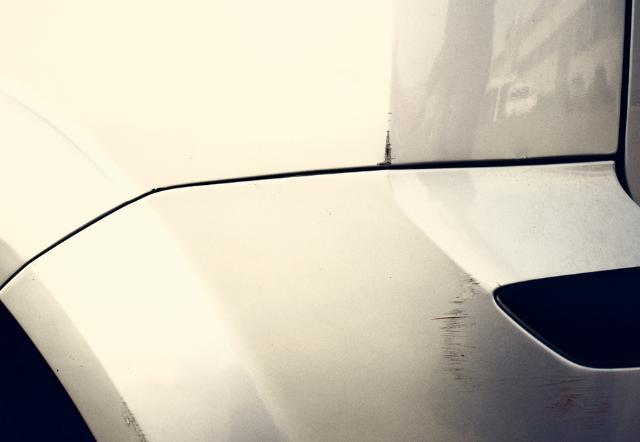Bumper: (39, 167, 640, 442)
Fender: (247, 28, 573, 172)
